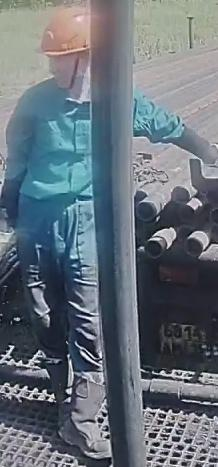gloves: (0, 216, 19, 260), (202, 136, 218, 169)
helmet: (37, 4, 93, 57)
vest: (0, 78, 97, 243)
